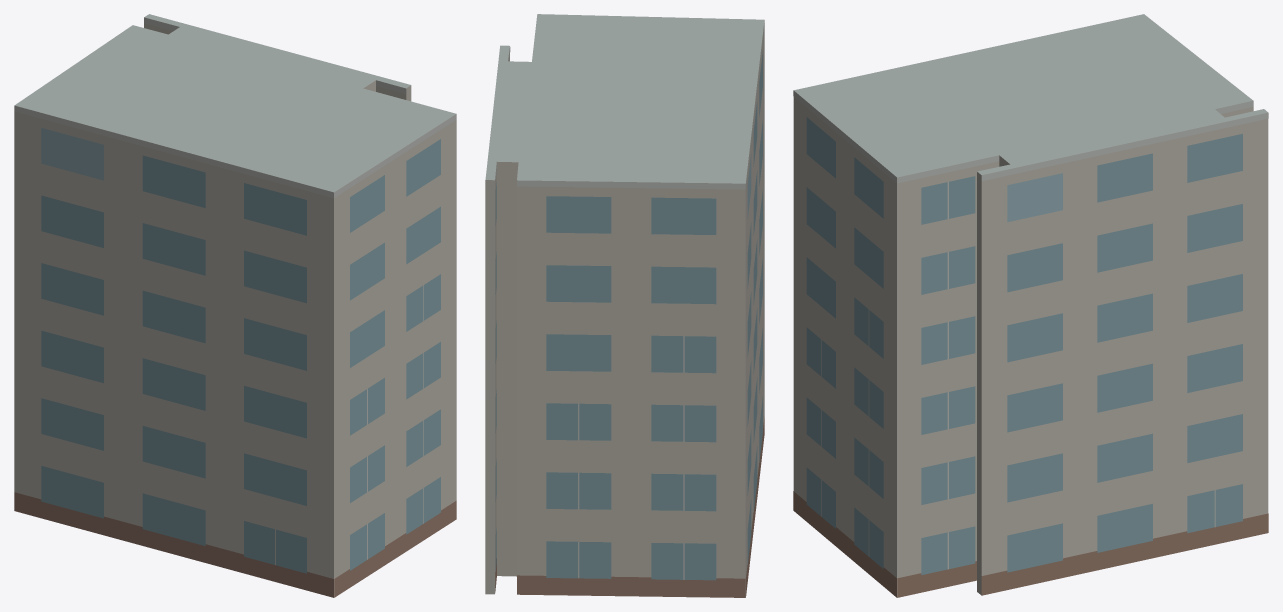
The model's file is survey-upis-32841630.glb.
The picture shows the model from 3 angles, left to right: view 1: azimuth 30°, elevation 25°; view 2: azimuth 150°, elevation 25°; view 3: azimuth 270°, elevation 25°; orthographic projection. The views are drawn at different scales.
Parts seen in each view (by area): view 1: survey-upis-32841630.tmp; view 2: survey-upis-32841630.tmp; view 3: survey-upis-32841630.tmp.
Boxes of the visible parts, box(x1,y1,x2,y2) form: survey-upis-32841630.tmp: box(14, 14, 456, 597); survey-upis-32841630.tmp: box(485, 14, 764, 597); survey-upis-32841630.tmp: box(793, 14, 1268, 597).
Size of the model in its own units: 14.27 by 17.1 by 17.52.
